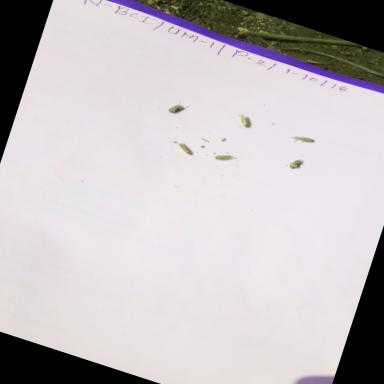pbw: (166, 96, 192, 118), (287, 130, 315, 148), (168, 138, 194, 156), (231, 111, 254, 130), (212, 149, 237, 166), (286, 155, 304, 173)
